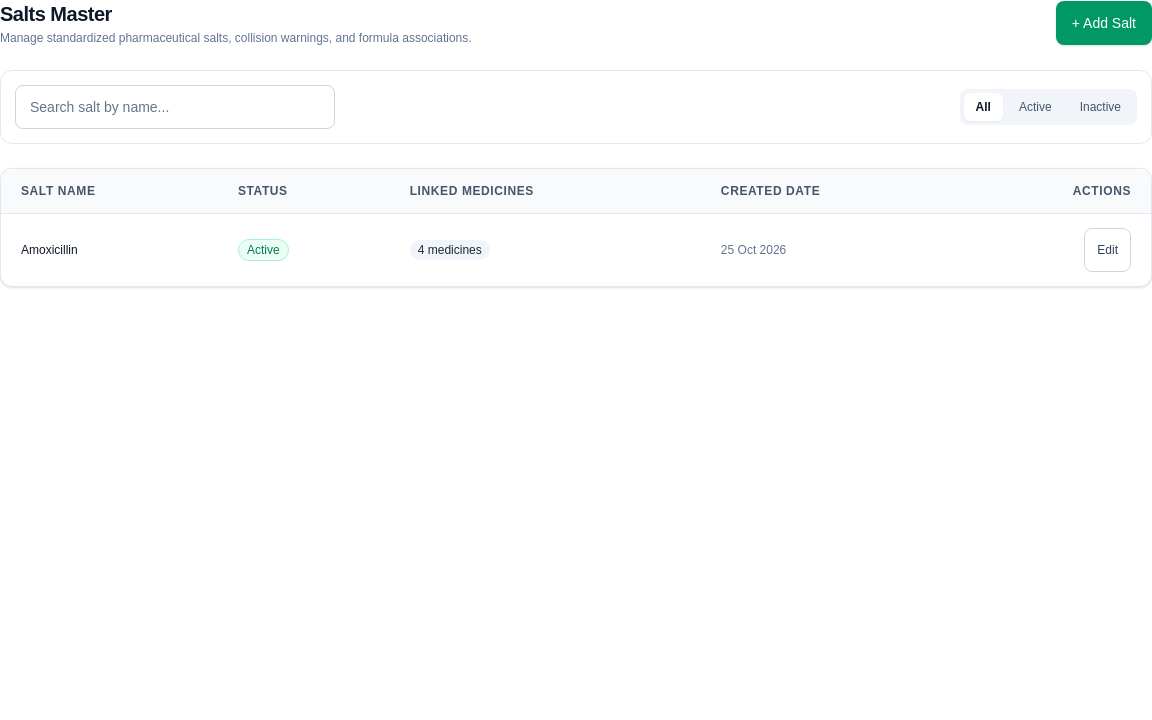
Test: Admin Salts Master Feature › renders salts table with items and open Add Salt modal
This screenshot has width=1152, height=720.
Expected: the text "Amoxicillin" is shown, [1, 214, 218, 286]
Expected: the text "4 medicines" is shown, [410, 240, 490, 260]
Click the button "+ Add Salt". click: {"x": 1104, "y": 23}
box: [1056, 1, 1151, 45]
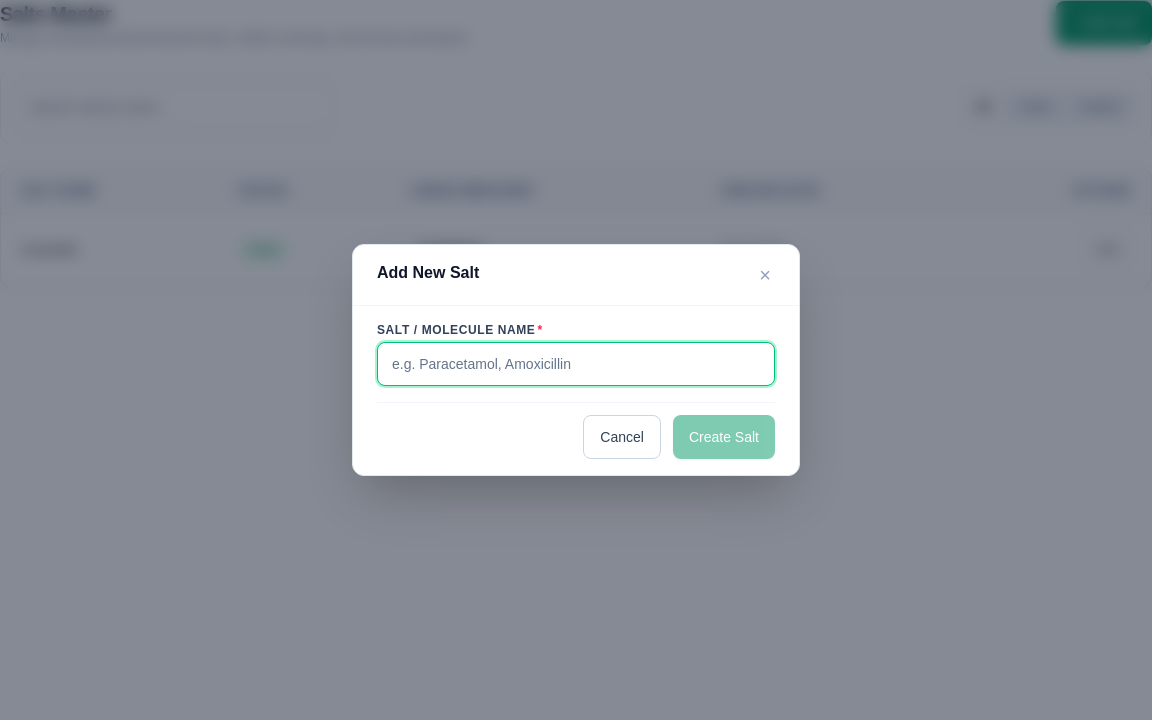
Now the heading "Add New Salt" is shown, box [377, 261, 479, 285]
